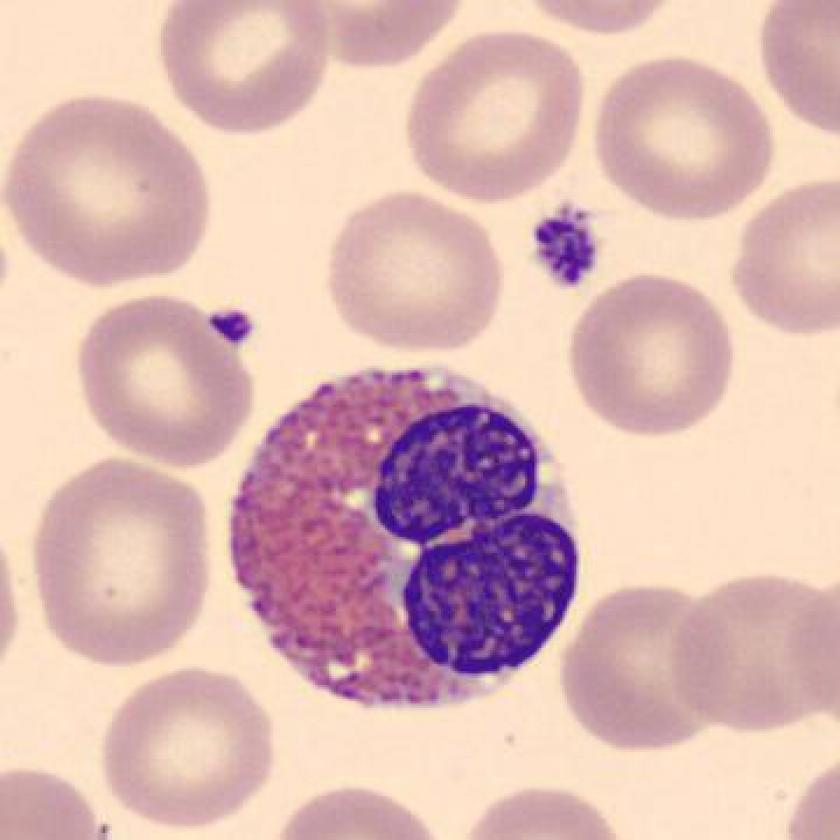eosinophil: (220, 355, 594, 721)
